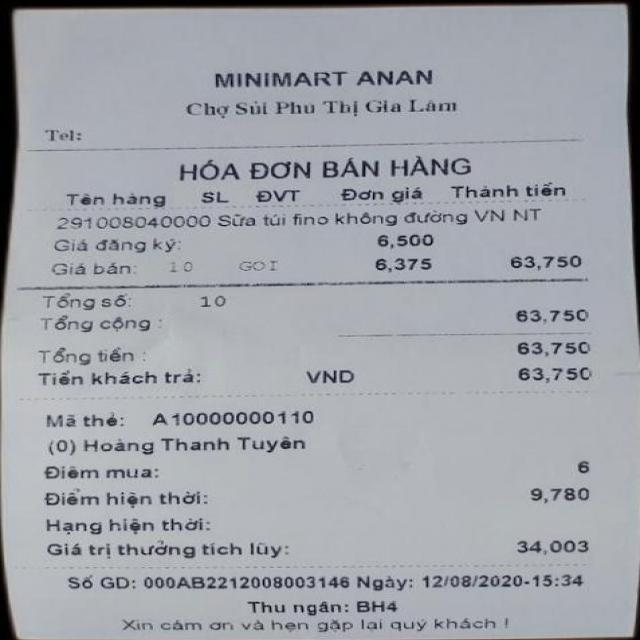Date: (419, 572, 522, 592)
Store_Name: (210, 65, 436, 94)
amount_number: (510, 300, 591, 328)
label_total: (41, 313, 158, 335)
